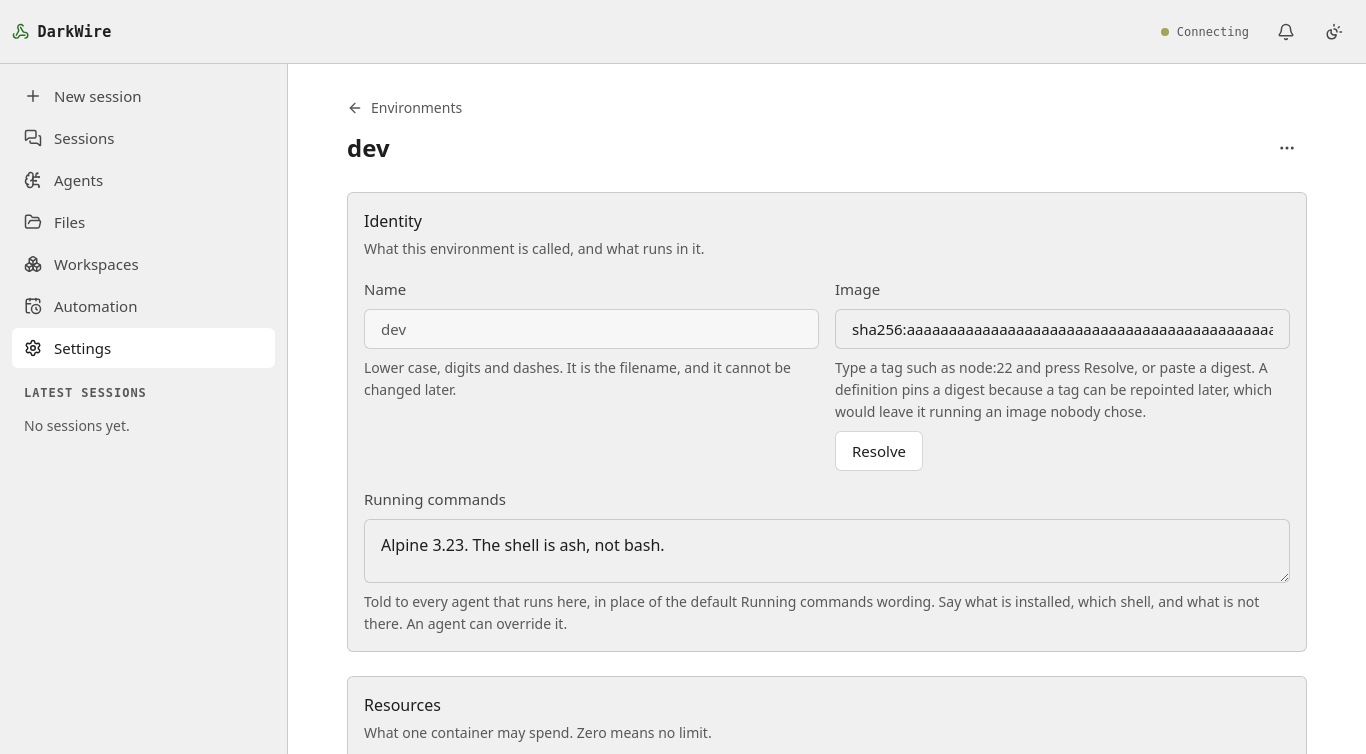
it: the environment editor › resolving an image › fills the box with the digest, so nobody runs docker inspect
The width and height of the screenshot is (1366, 754).
Replace the text in the field labelled "Image" with "node:22" at [1062, 329], box [835, 309, 1290, 349]
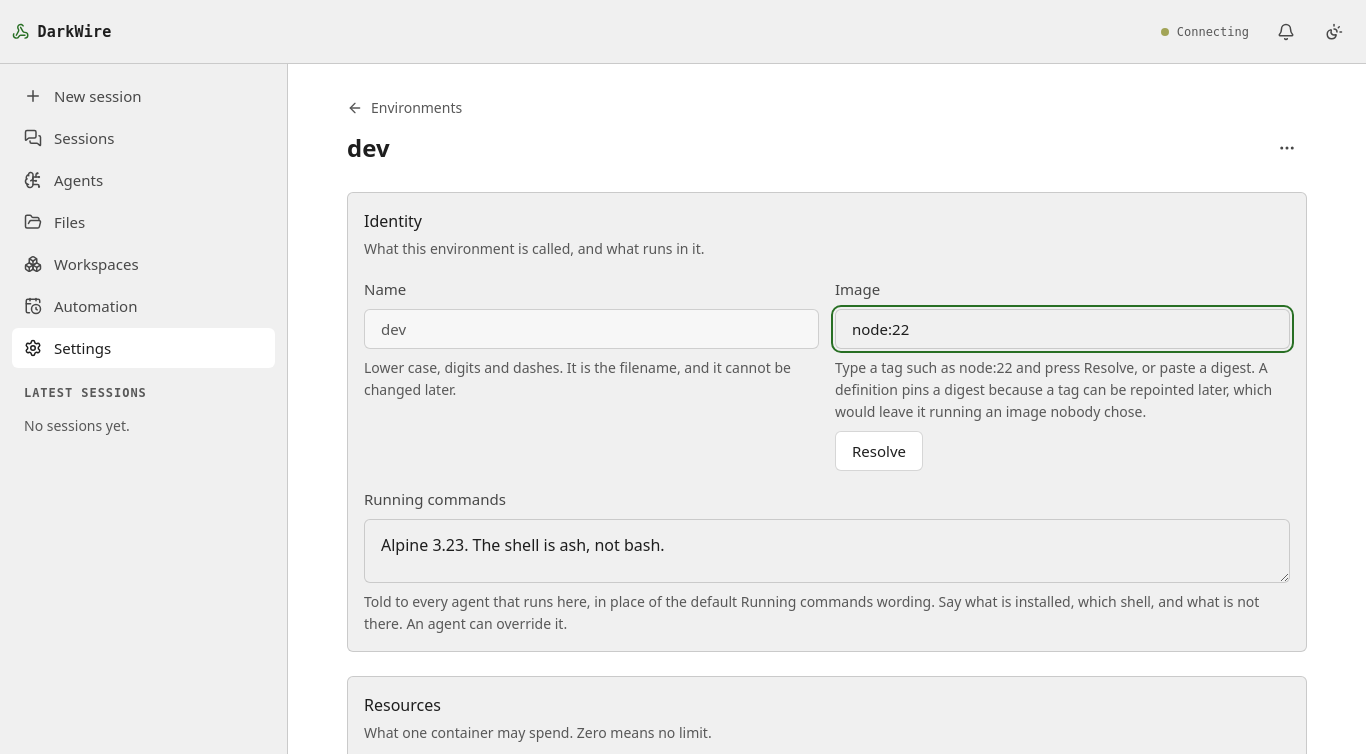
Click the button "Resolve" at [879, 451], box [835, 431, 923, 471]
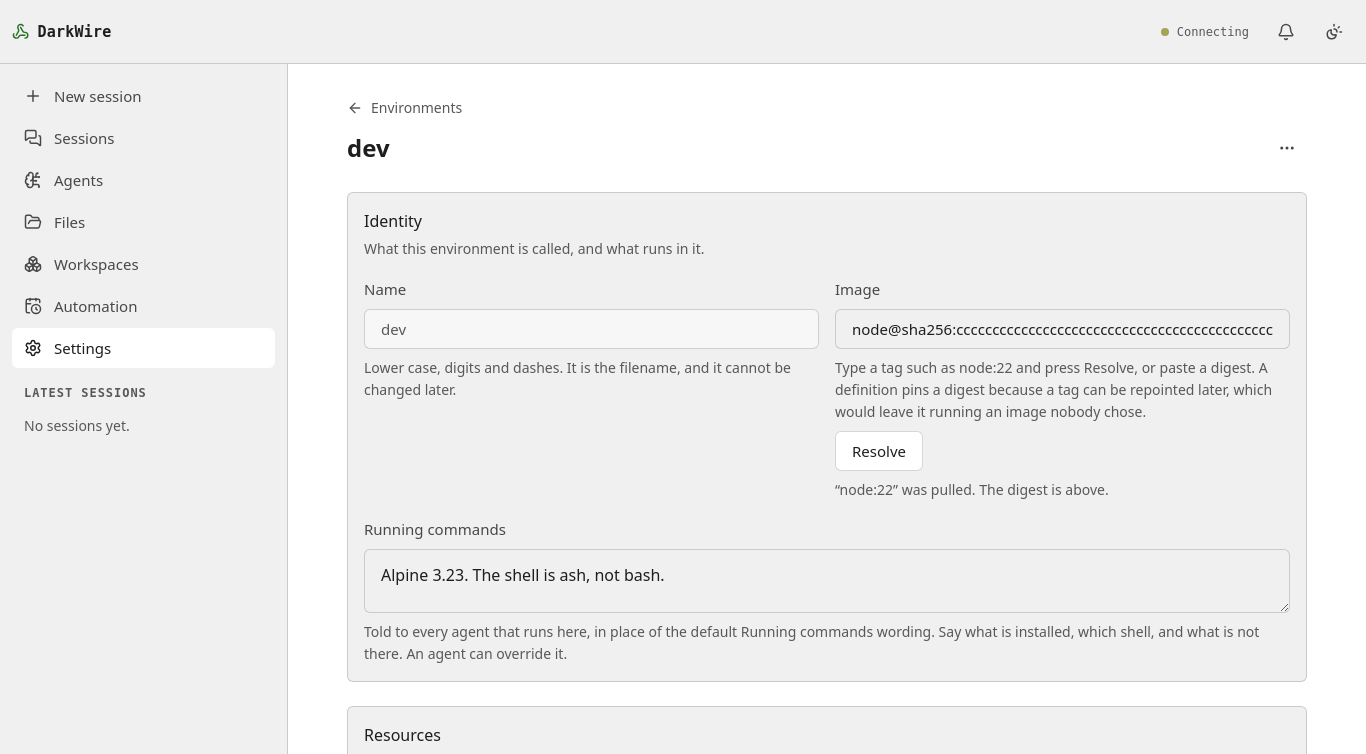
Expected: the text "“node:22” was pulled. The digest is above." is shown, [835, 480, 1109, 499]
